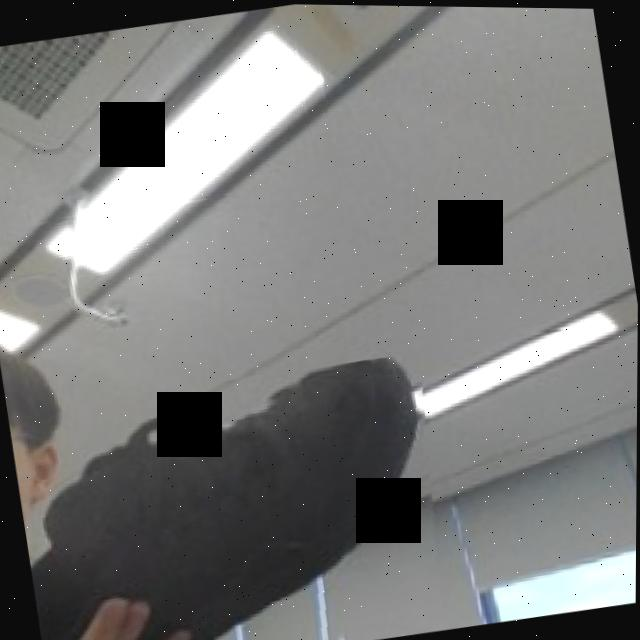shoe: (6, 346, 463, 640)
